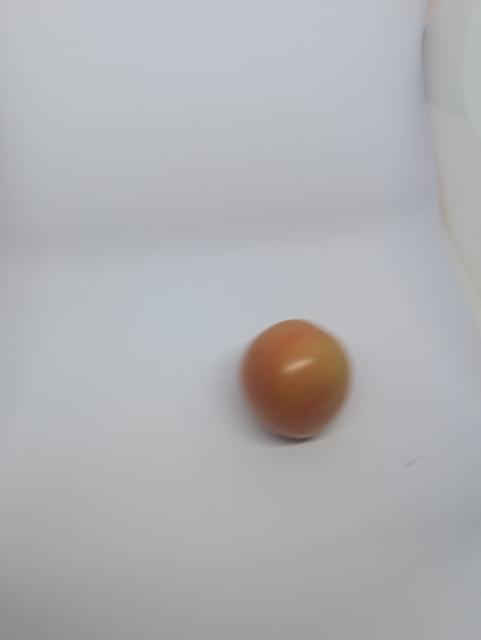turning: (234, 311, 363, 451)
